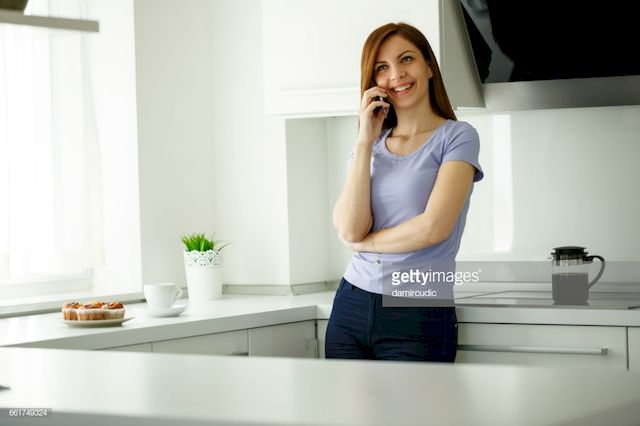phone: (365, 82, 393, 118)
talk: (355, 47, 425, 139)
